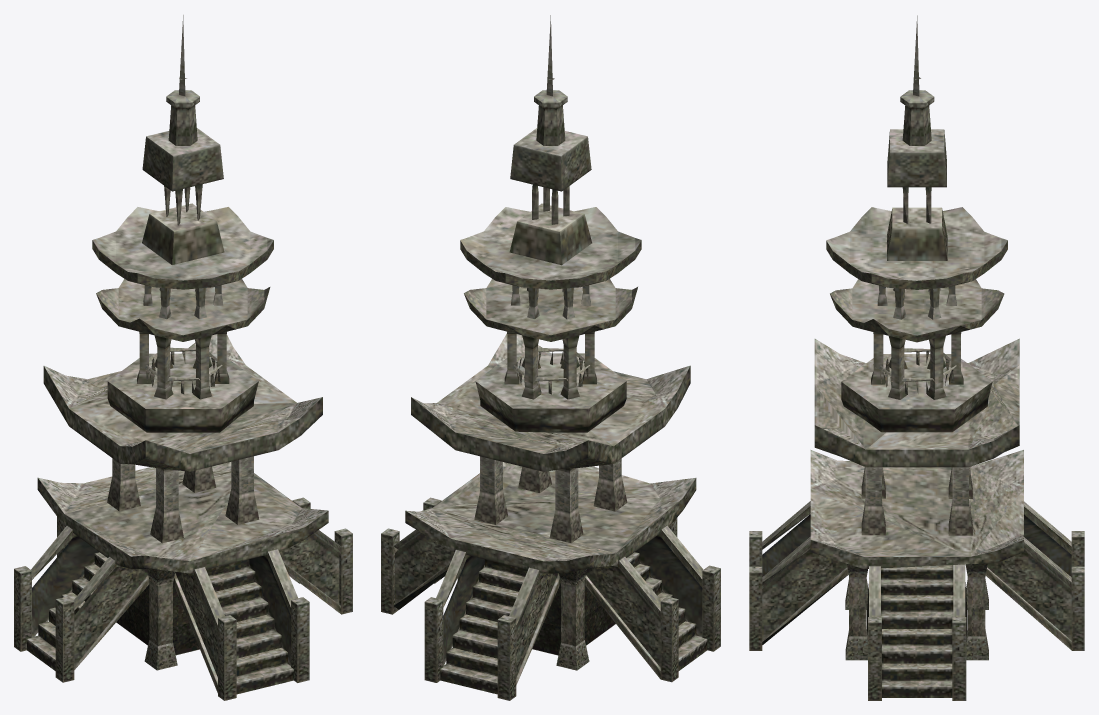
Rendered from nsm-037-tower_lod_01.glb.
3 views of the same model, side by side, from view 1: azimuth 30°, elevation 25°; view 2: azimuth 150°, elevation 25°; view 3: azimuth 270°, elevation 25° (orthographic).
Parts seen in each view (by area): view 1: Object01; view 2: Object01; view 3: Object01.
Boxes of the visible parts, x1,y1,x2,y2 form: Object01: (14,15,352,700); Object01: (381,15,720,700); Object01: (749,15,1084,700).
Size of the model in its own units: 7.64 by 15.49 by 7.64.
Materials: 1 (1 with a texture image).
